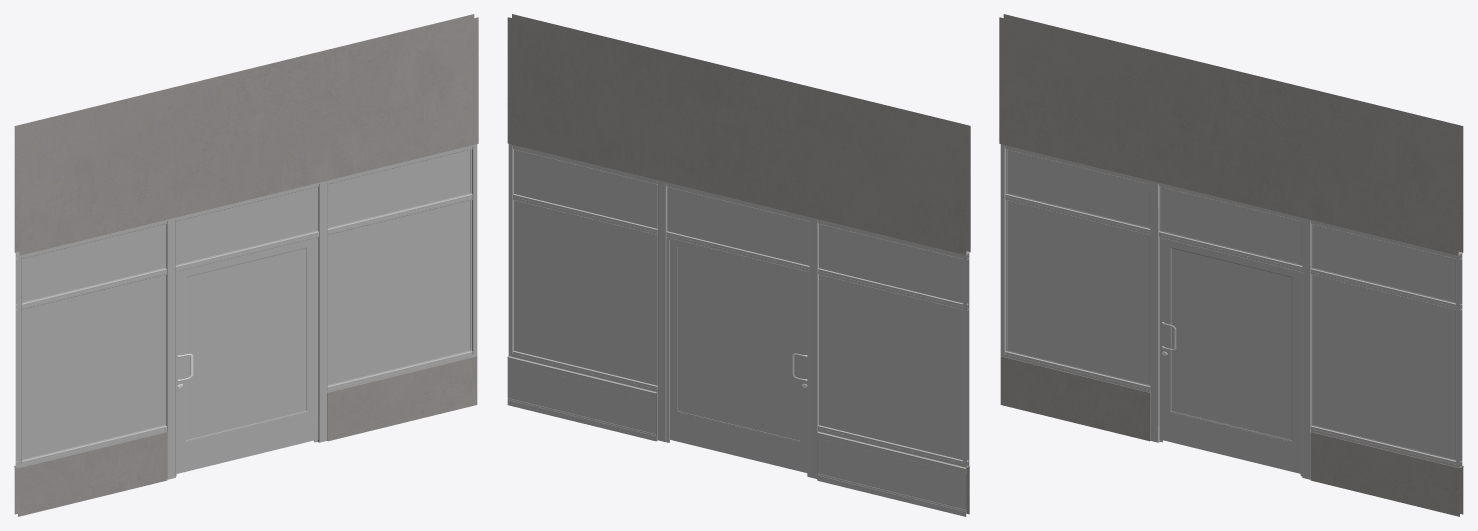
File: DoorAndWalls2.fbx
The picture shows the model from 3 angles, left to right: view 1: azimuth 30°, elevation 25°; view 2: azimuth 150°, elevation 25°; view 3: azimuth 330°, elevation 25°; orthographic projection.
Visible parts, largest first — view 1: SM_Wall03; view 2: SM_Wall03; view 3: SM_Wall03.
Part boxes in pixels (<box>): SM_Wall03: <box>14,14,478,516</box>; SM_Wall03: <box>507,14,970,516</box>; SM_Wall03: <box>999,14,1463,516</box>.
Bounding box in the file's own units: 495 × 400 × 8.98.
